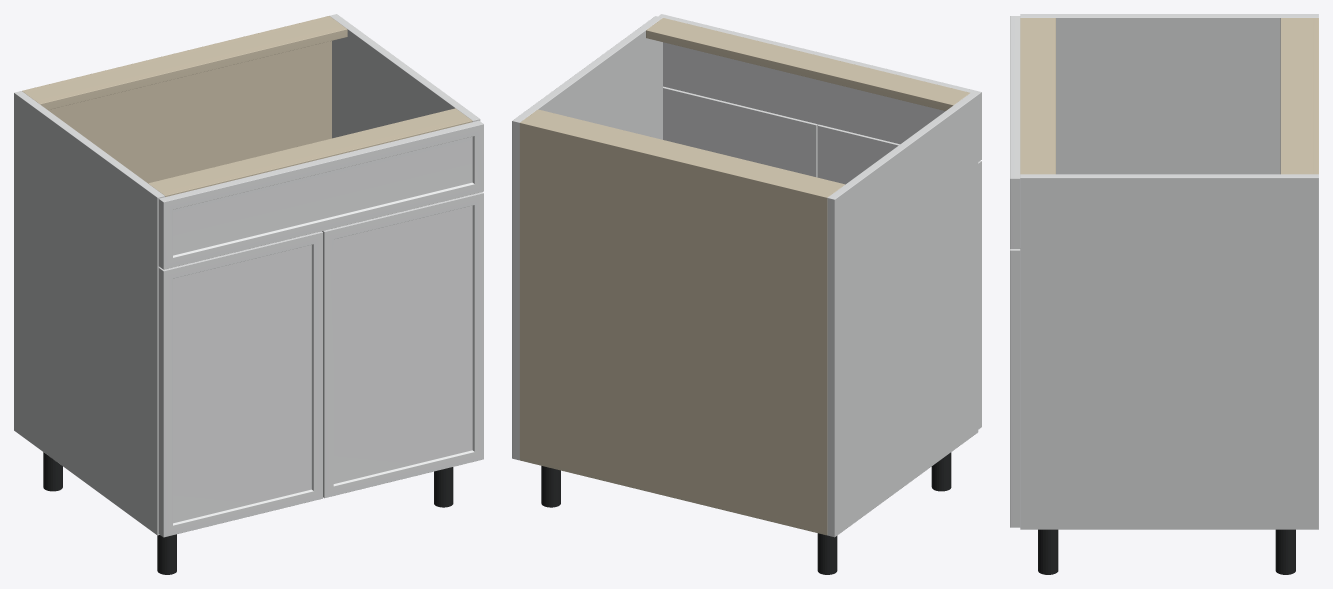
The model's file is oppein-ply-ssw-sb30.glb.
The picture shows the model from 3 angles, left to right: view 1: azimuth 30°, elevation 25°; view 2: azimuth 150°, elevation 25°; view 3: azimuth 270°, elevation 25°; orthographic projection. The views are drawn at different scales.
Parts seen in each view (by area): view 1: Cabinet side, Door, Door.001, Cabinet back, False drawer front, Cabinet side.001, Top support rail, Top support rail.001, Adjustable foot.001, Adjustable foot.003, Adjustable foot; view 2: Cabinet back, Cabinet side, False drawer front, Cabinet side.001, Door.001, Top support rail.001, Top support rail, Door, Adjustable foot, Adjustable foot.002, Cabinet bottom, Adjustable foot.001; view 3: Cabinet side.001, Cabinet side, Top support rail.001, Top support rail, Door.001, False drawer front, Adjustable foot.003, Adjustable foot.002, Cabinet back.
Part boxes in pixels (<box>): Cabinet side: <box>14,91,164,535</box>; Door: <box>158,231,322,537</box>; Door.001: <box>322,192,483,498</box>; Cabinet back: <box>22,16,331,183</box>; False drawer front: <box>158,120,483,269</box>; Cabinet side.001: <box>329,14,480,138</box>; Top support rail: <box>23,17,347,109</box>; Top support rail.001: <box>148,108,472,196</box>; Adjustable foot.001: <box>157,534,176,574</box>; Adjustable foot.003: <box>434,467,453,507</box>; Adjustable foot: <box>43,452,62,491</box>; Cabinet back: <box>519,120,829,534</box>; Cabinet side: <box>827,93,978,537</box>; False drawer front: <box>658,14,981,161</box>; Cabinet side.001: <box>512,16,662,460</box>; Door.001: <box>663,86,818,177</box>; Top support rail.001: <box>646,18,969,110</box>; Top support rail: <box>523,109,844,195</box>; Door: <box>817,124,981,429</box>; Adjustable foot: <box>817,533,837,574</box>; Adjustable foot.002: <box>541,466,560,507</box>; Cabinet bottom: <box>519,456,826,535</box>; Adjustable foot.001: <box>931,452,951,491</box>; Cabinet side.001: <box>1020,174,1318,529</box>; Cabinet side: <box>1020,14,1318,174</box>; Top support rail.001: <box>1020,18,1055,174</box>; Top support rail: <box>1280,18,1315,174</box>; Door.001: <box>1010,249,1020,527</box>; False drawer front: <box>1010,16,1020,248</box>; Adjustable foot.003: <box>1038,529,1058,574</box>; Adjustable foot.002: <box>1275,529,1295,574</box>; Cabinet back: <box>1313,18,1318,174</box>.
Bounding box in the file's own units: 0.762 × 0.8763 × 0.6064.
